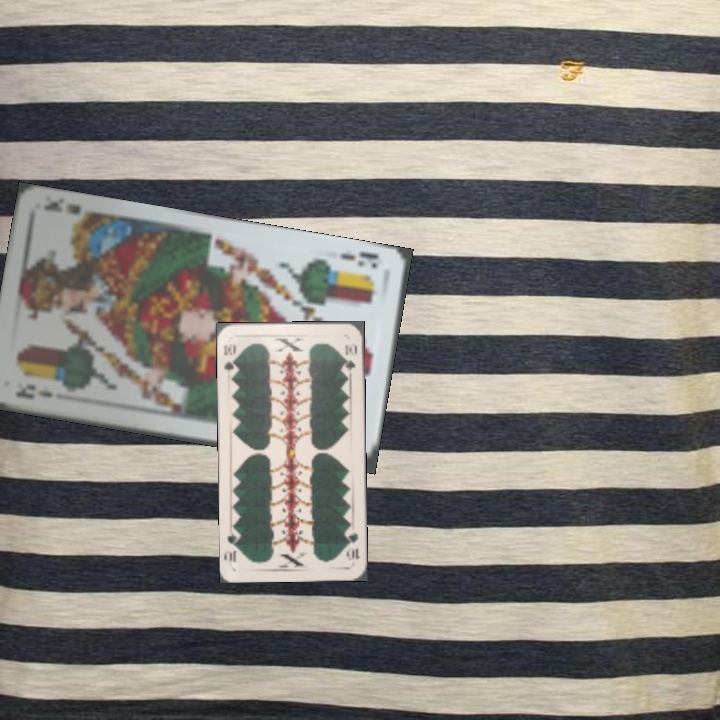EK: (336, 248, 382, 272), (11, 380, 56, 402)
G10: (220, 341, 239, 378), (343, 529, 363, 563)
